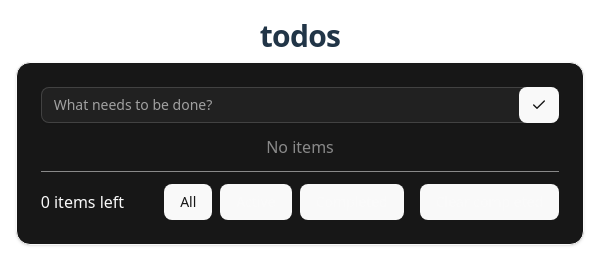
Scenario: Todo App › create todo with create button
Type "Test todo" into the field with test id "create-input".
click(300, 104); type("Test todo")  # box [41,86,559,122]
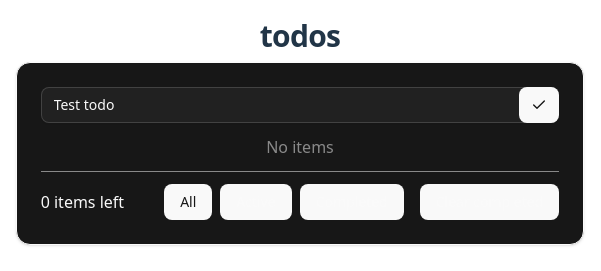
Click the button with test id "create-button".
click(539, 104)  # box [519,86,559,122]
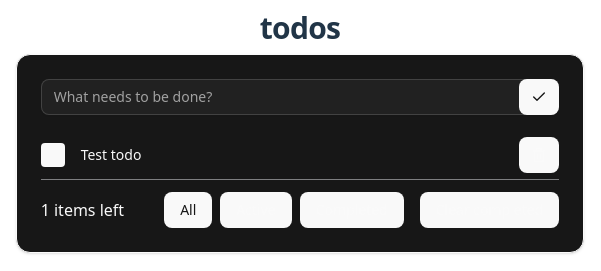
Check: the text "Test todo" is shown, box [81,148,141,162]
